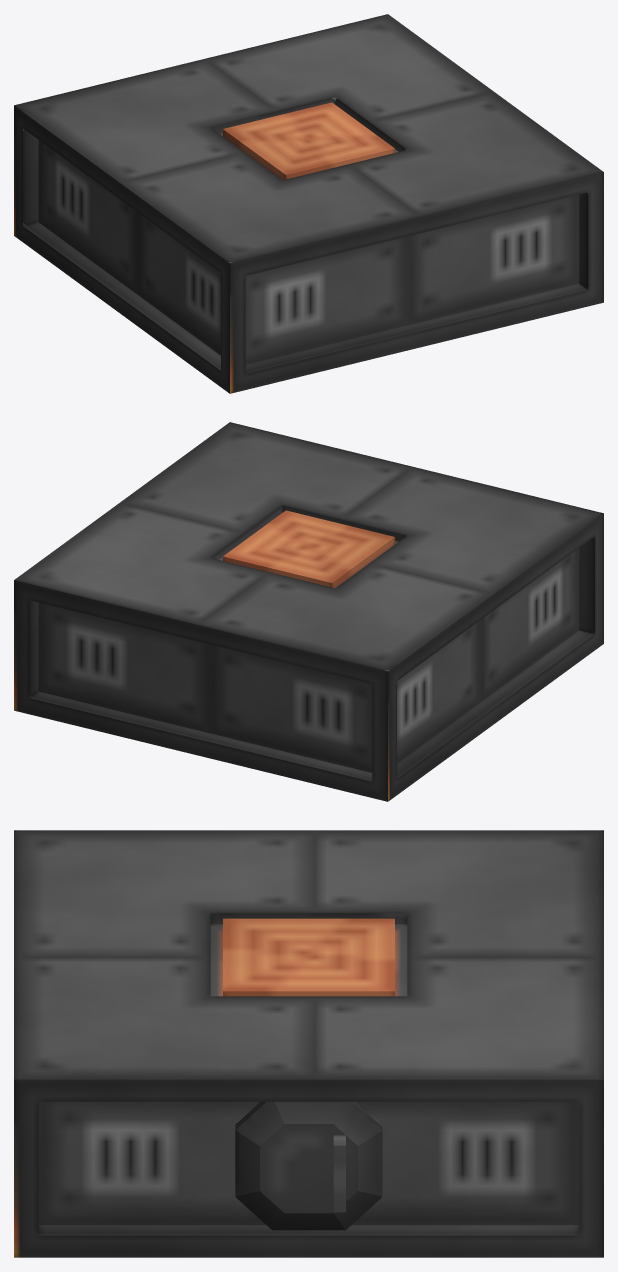
Rendered from firebox.obj.
3 views of the same model, one above another, from view 1: azimuth 30°, elevation 25°; view 2: azimuth 150°, elevation 25°; view 3: azimuth 270°, elevation 25° (orthographic). The views are drawn at different scales.
Parts seen in each view (by area): view 1: Main; view 2: Main; view 3: Main, Door.
Part boxes in pixels (left/top/right/bottom): Main: left=14, top=14, right=603, bottom=393; Main: left=14, top=422, right=603, bottom=801; Main: left=14, top=830, right=603, bottom=1257; Door: left=235, top=1101, right=382, bottom=1230.
Bounding box in the file's own units: 3.12 × 1 × 3.
